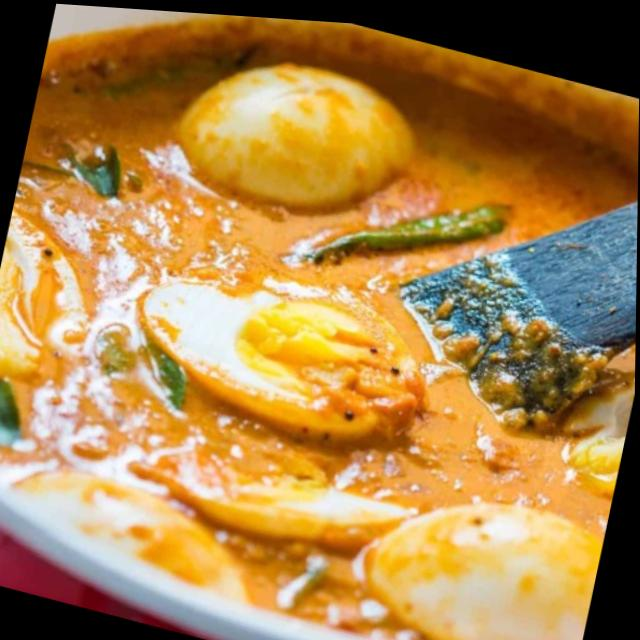EGG: (0, 41, 638, 640)
